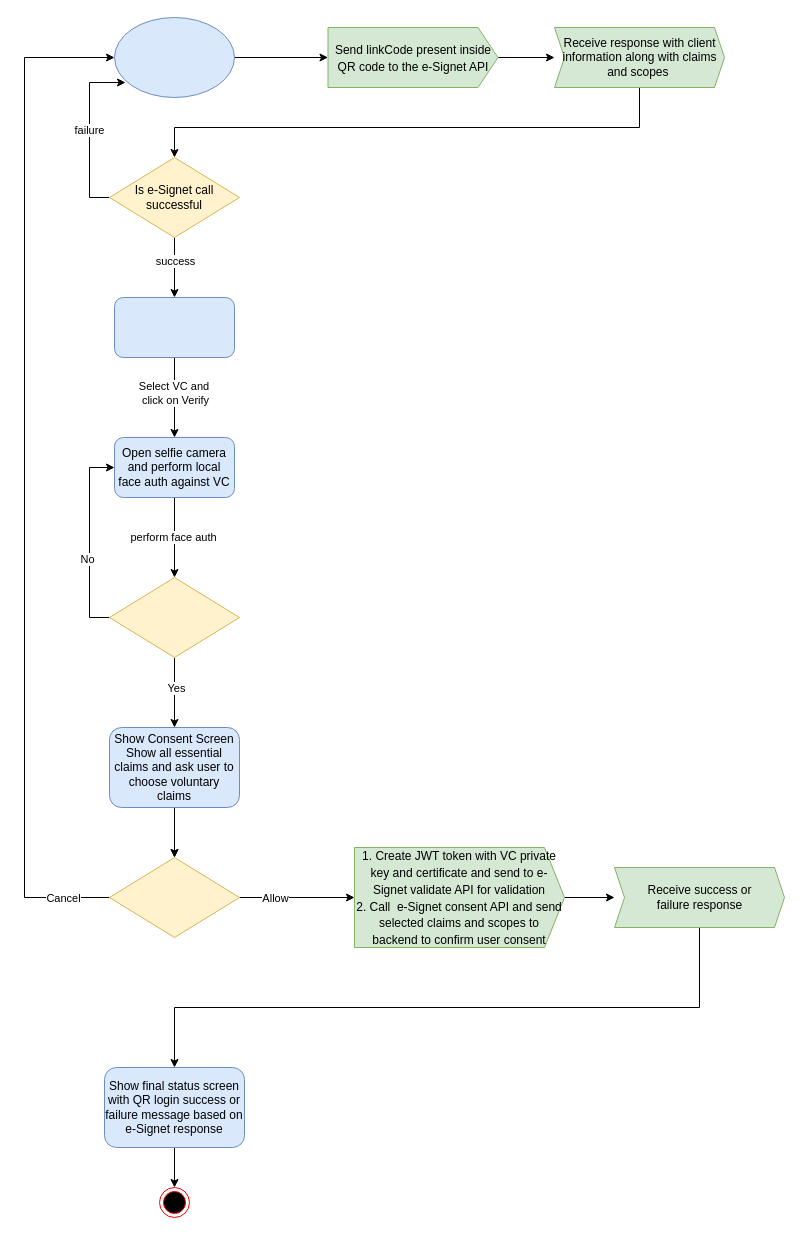
Some shapes in this 802 by 1235 pixel diagram are drawn without their labels. Each missing label, with the centre of its shape:
"Is local face auth successful?" goes at point 174,617.
"Select Button" goes at point 174,897.
"Show VC selection screen with all activated VC." goes at point 174,327.
"User scans the QR code present in relying party portal" goes at point 174,57.
